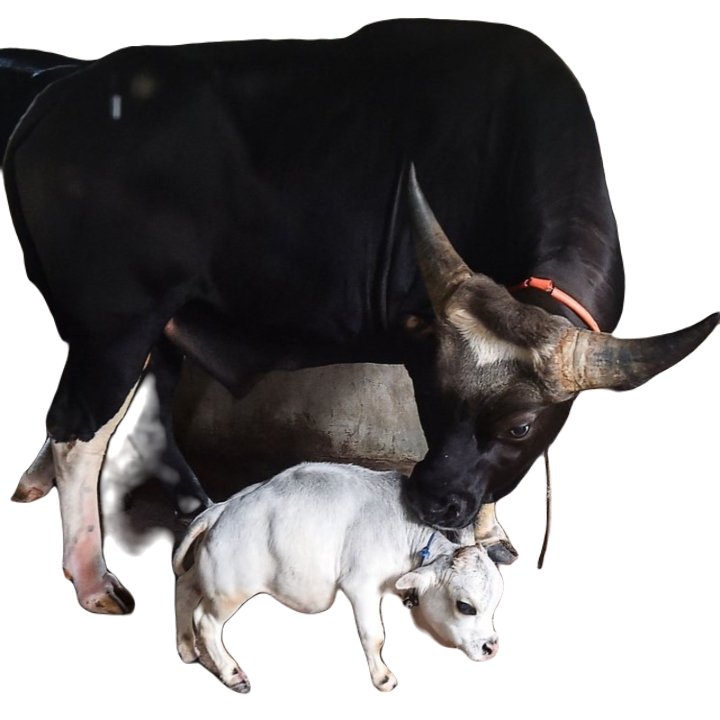Cow: (2, 15, 716, 616)
